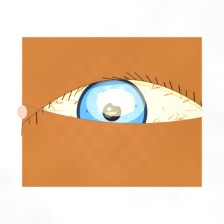corneal_ulcer: (85, 78, 147, 128)
